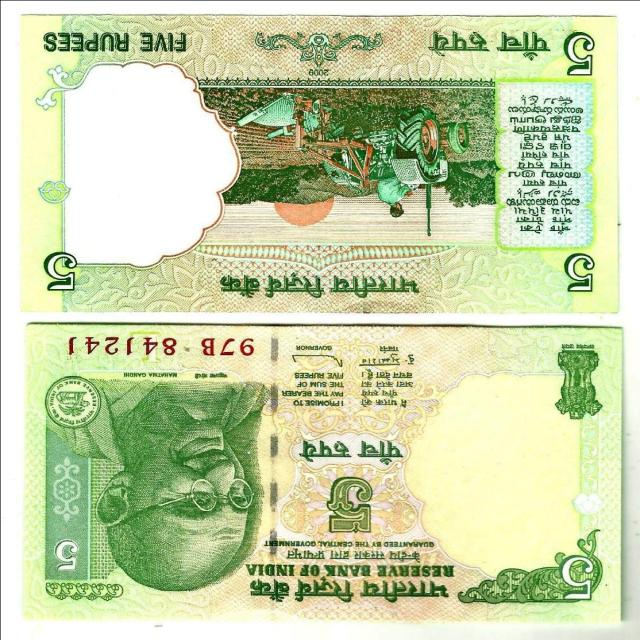5IndianRupees: (19, 15, 618, 310)
